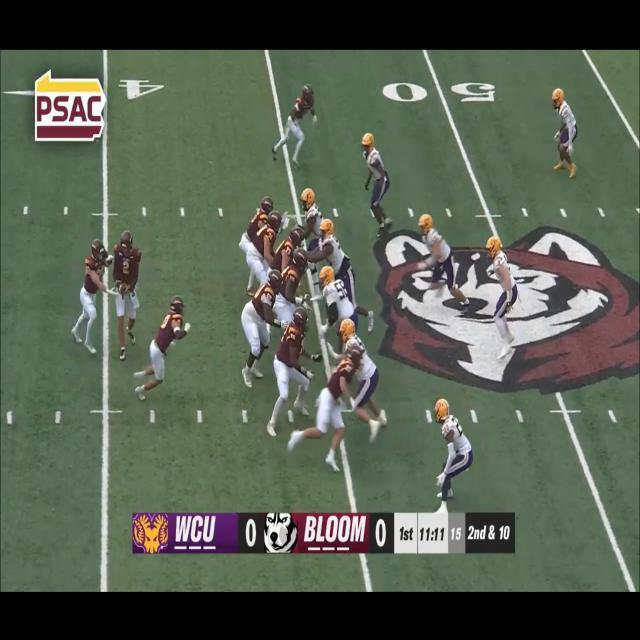football: (117, 280, 131, 296)
